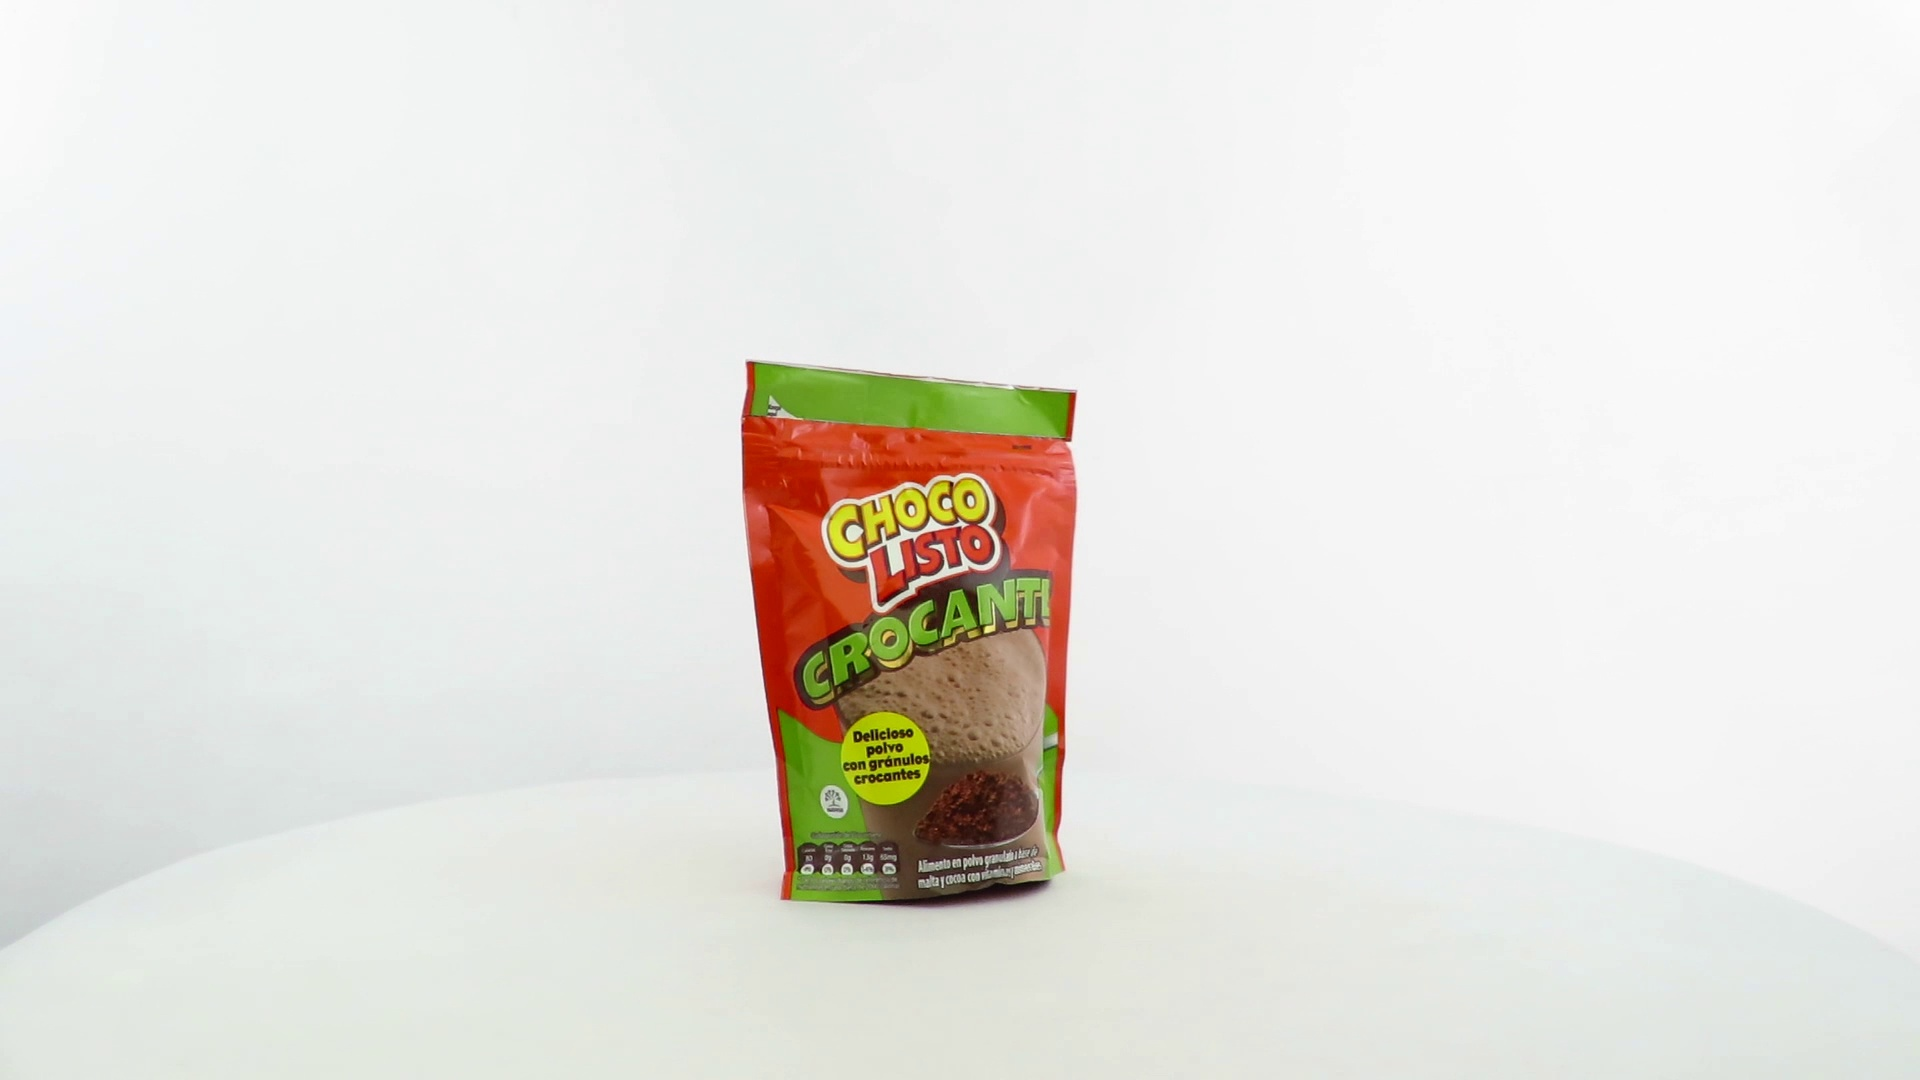COL0170102DYP10000: (735, 355, 1084, 914)
